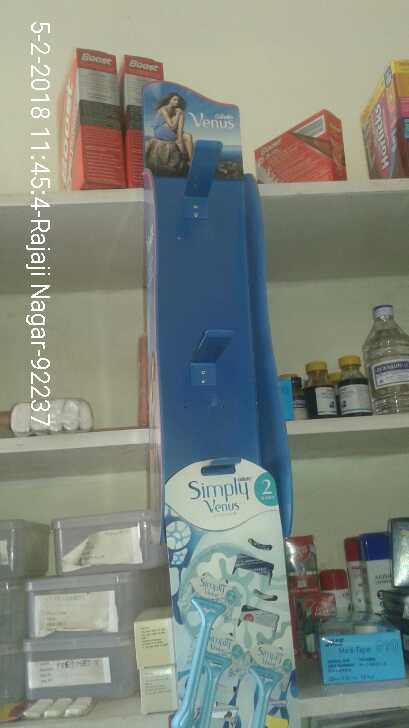beauty: (161, 471, 293, 728)
